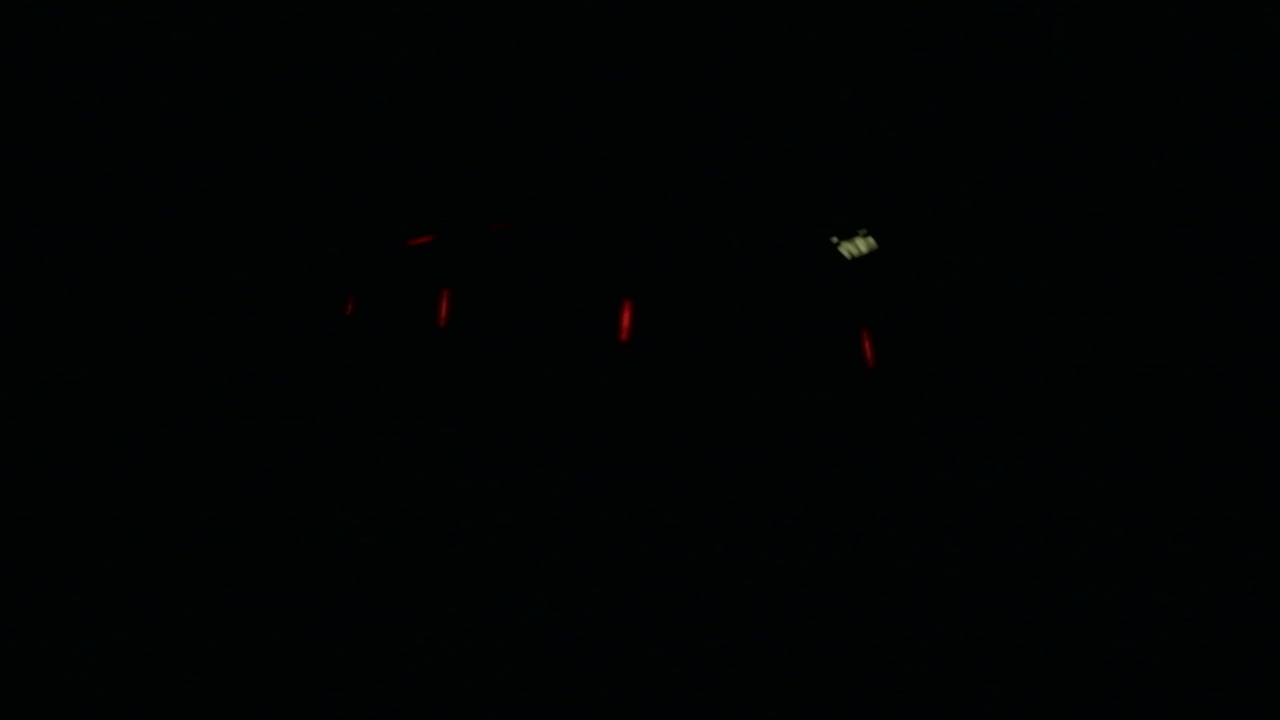lamp: (612, 285, 633, 340), (435, 286, 446, 341)
notpair2: (617, 288, 879, 368)
pair2: (437, 287, 633, 343)
